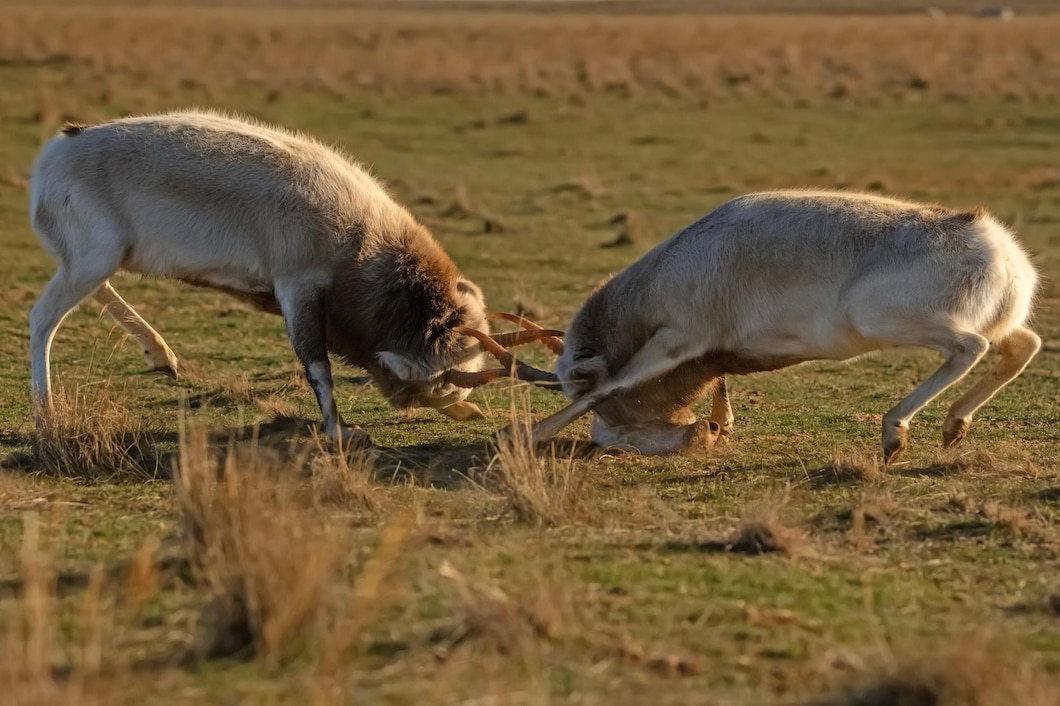saiga: (17, 111, 539, 464)
